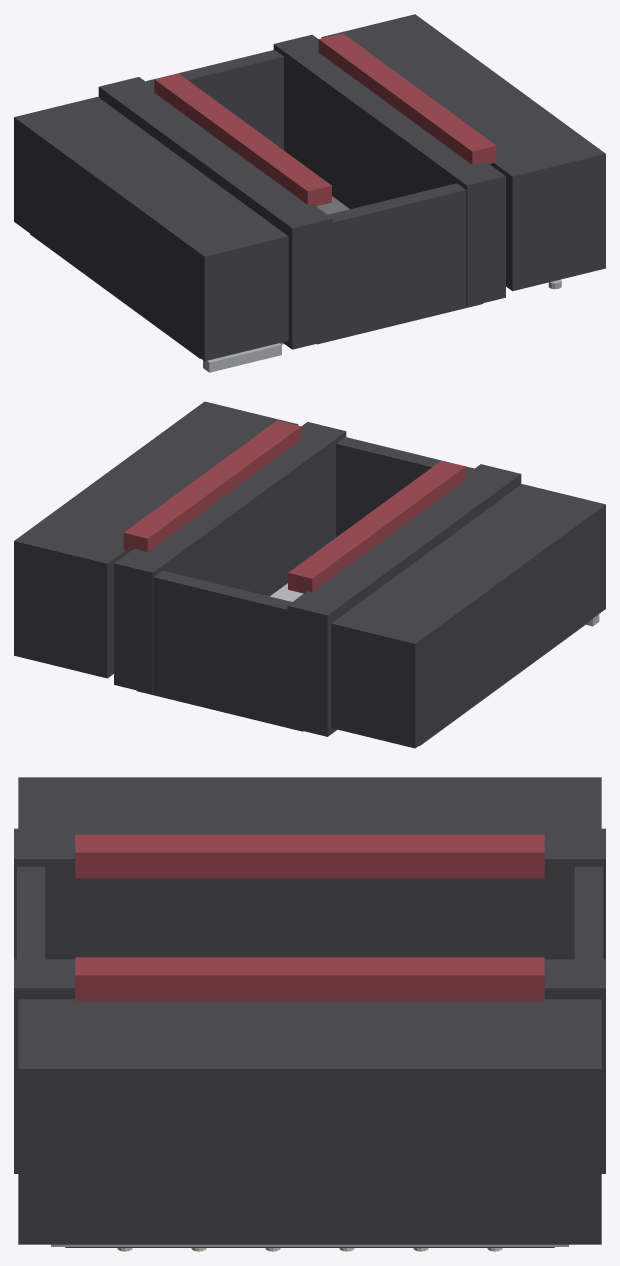
The model's file is accordion.glb.
3 renders of one model, top to bottom at view 1: azimuth 30°, elevation 25°; view 2: azimuth 150°, elevation 25°; view 3: azimuth 270°, elevation 25°, orthographic. The views are drawn at different scales.
Parts seen in each view (by area): view 1: keyboard_side_case, bass_side_case, bellows_right_frame, bellows_top_band, bellows_left_frame, rear_strap_left, rear_strap_right, bellows_bottom_band, keyboard_trim; view 2: keyboard_side_case, bass_side_case, bellows_right_frame, bellows_bottom_band, bellows_left_frame, rear_strap_left, rear_strap_right, bellows_top_band; view 3: bass_side_case, bellows_left_frame, keyboard_side_case, rear_strap_left, rear_strap_right, bellows_right_frame, bellows_top_band, bellows_bottom_band, bass_faceplate.
Boxes of the visible parts, x1,y1,x2,y2 form: keyboard_side_case: (14,96,288,361); bass_side_case: (321,14,605,291); bellows_right_frame: (273,34,505,306); bellows_top_band: (317,183,483,344); bellows_left_frame: (98,77,332,349); rear_strap_left: (154,73,331,206); rear_strap_right: (318,33,496,164); bellows_bottom_band: (145,50,283,150); keyboard_trim: (203,343,281,372); keyboard_side_case: (331,484,605,748); bass_side_case: (14,401,298,678); bellows_right_frame: (114,422,346,694); bellows_bottom_band: (136,570,303,731); bellows_left_frame: (287,464,521,736); rear_strap_left: (288,460,465,593); rear_strap_right: (123,420,301,551); bellows_top_band: (336,437,474,537); bass_side_case: (18,999,601,1244); bellows_left_frame: (14,828,605,959); keyboard_side_case: (18,777,601,828); rear_strap_left: (75,834,544,878); rear_strap_right: (75,957,544,1001); bellows_right_frame: (14,959,605,1173); bellows_top_band: (17,866,45,959); bellows_bottom_band: (574,866,602,959); bass_faceplate: (51,1244,568,1246).
Bounding box in the file's own units: 2.49 × 0.8695 × 2.08.
